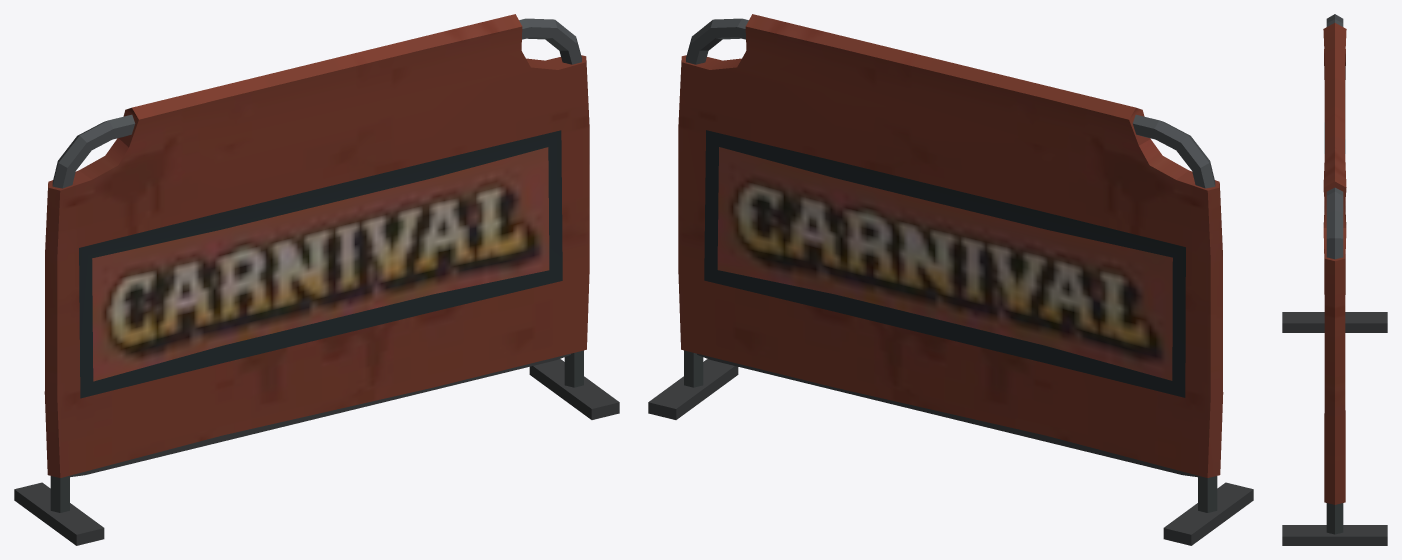
Rendered from SM_Prop_Barricade_02.glb.
The picture shows the model from 3 angles, left to right: view 1: azimuth 30°, elevation 25°; view 2: azimuth 150°, elevation 25°; view 3: azimuth 270°, elevation 25°; orthographic projection. The views are drawn at different scales.
Visible parts, largest first — view 1: SM_Prop_Barricade_02; view 2: SM_Prop_Barricade_02; view 3: SM_Prop_Barricade_02.
Boxes of the visible parts, <box> form: SM_Prop_Barricade_02: <box>14,14,619,545</box>; SM_Prop_Barricade_02: <box>648,14,1253,545</box>; SM_Prop_Barricade_02: <box>1282,14,1387,545</box>.
Bounding box in the file's own units: 177 × 123 × 35.07.
1 material, 1 textured.
